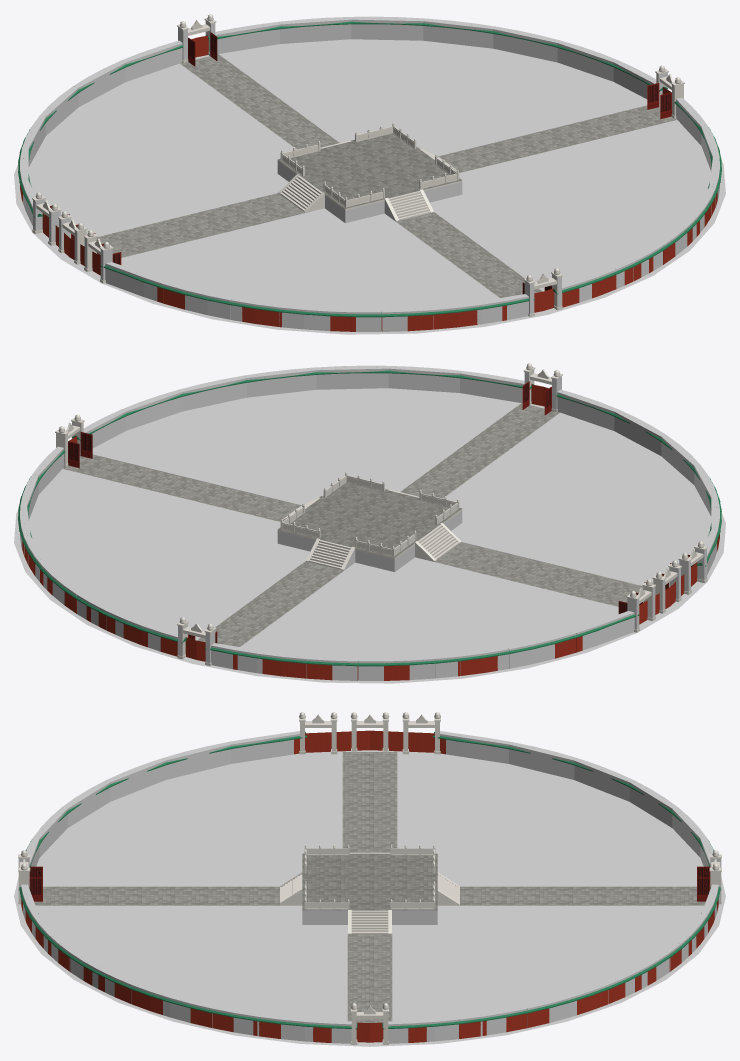
The model's file is ritan.glb.
The picture shows the model from 3 angles, top to bottom: view 1: azimuth 30°, elevation 25°; view 2: azimuth 150°, elevation 25°; view 3: azimuth 270°, elevation 25°; orthographic projection.
Parts seen in each view (by area): view 1: CLEAR_precinct_clear, FOOTPRINT_precinct, Altar, COL_wall11, COL_wall12, COL_wall10, COL_wall9, COL_altar, Massing, COL_wall13, COL_wall14, COL_wall8 (+14 smaller); view 2: CLEAR_precinct_clear, FOOTPRINT_precinct, Altar, COL_wall2, COL_wall1, COL_wall3, COL_wall4, COL_altar, Massing, COL_wall0, COL_wall25, COL_wall5 (+14 smaller); view 3: FOOTPRINT_precinct, CLEAR_precinct_clear, Altar, Massing, COL_wall18, COL_wall21, COL_wall19, COL_wall20, COL_altar, COL_wall17, COL_wall22, COL_wall7 (+15 smaller).
Part boxes in pixels (box(x1,y1,x2,y2)): CLEAR_precinct_clear: box(19, 39, 722, 333); FOOTPRINT_precinct: box(14, 39, 725, 334); Altar: box(18, 14, 721, 331); COL_wall11: box(351, 16, 424, 40); COL_wall12: box(278, 17, 351, 43); COL_wall10: box(423, 18, 495, 48); COL_wall9: box(493, 26, 560, 62); COL_altar: box(277, 161, 462, 223); Massing: box(42, 35, 670, 312); COL_wall13: box(215, 22, 279, 54); COL_wall14: box(121, 40, 182, 81); COL_wall8: box(557, 41, 617, 81); CLEAR_precinct_clear: box(17, 388, 720, 682); FOOTPRINT_precinct: box(14, 388, 725, 683); Altar: box(18, 363, 721, 680); COL_wall2: box(315, 365, 388, 389); COL_wall1: box(388, 366, 461, 392); COL_wall3: box(244, 367, 316, 397); COL_wall4: box(179, 375, 246, 411); COL_altar: box(277, 510, 462, 572); Massing: box(69, 384, 697, 661); COL_wall0: box(460, 371, 524, 403); COL_wall25: box(557, 389, 618, 430); COL_wall5: box(122, 390, 182, 430); FOOTPRINT_precinct: box(14, 750, 725, 1046); CLEAR_precinct_clear: box(23, 750, 716, 1045); Altar: box(18, 712, 721, 1044); Massing: box(305, 730, 434, 1042); COL_wall18: box(509, 742, 577, 779); COL_wall21: box(162, 742, 230, 779); COL_wall19: box(440, 731, 510, 763); COL_wall20: box(229, 731, 299, 763); COL_altar: box(302, 910, 437, 924); COL_wall17: box(574, 758, 634, 801); COL_wall22: box(105, 758, 165, 801); COL_wall7: box(388, 1017, 458, 1043).
Bounding box in the file's own units: 85.9 × 5.25 × 85.9.
7 materials, 4 textured.
